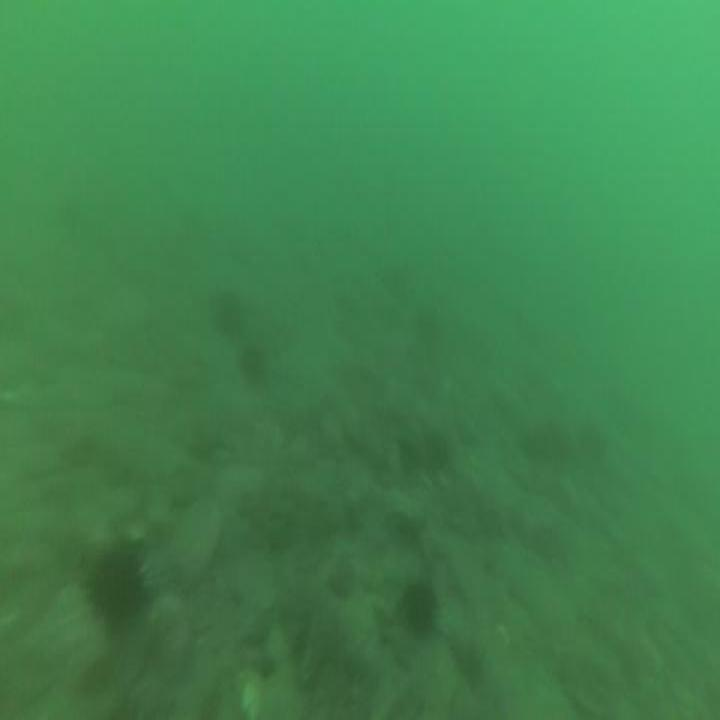echinus: (85, 537, 155, 636), (400, 571, 443, 638), (208, 283, 246, 343), (419, 423, 455, 480), (233, 338, 271, 382)
